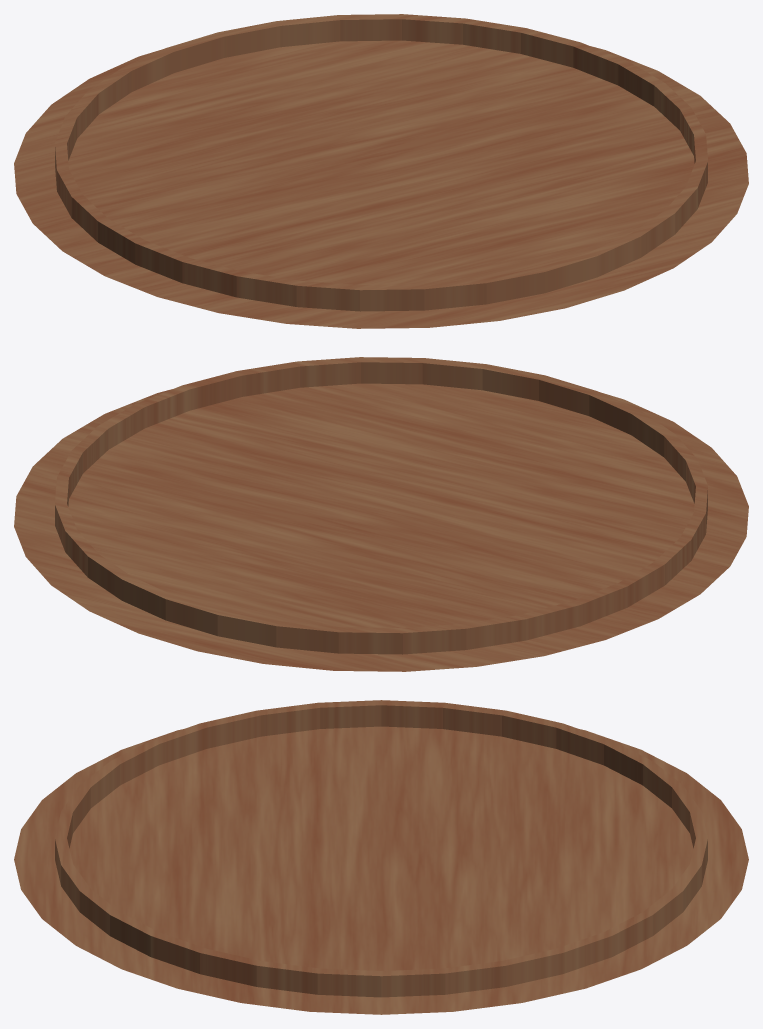
The model's file is StoneContainerCover.fbx.
The picture shows the model from 3 angles, top to bottom: view 1: azimuth 30°, elevation 25°; view 2: azimuth 150°, elevation 25°; view 3: azimuth 270°, elevation 25°; orthographic projection.
Parts seen in each view (by area): view 1: Cover; view 2: Cover; view 3: Cover.
Part boxes in pixels (x1=…): Cover: x1=14, y1=14, x2=748, y2=328; Cover: x1=14, y1=357, x2=748, y2=671; Cover: x1=14, y1=700, x2=748, y2=1014.
Size of the model in its own units: 1029 by 73.12 by 1029.
